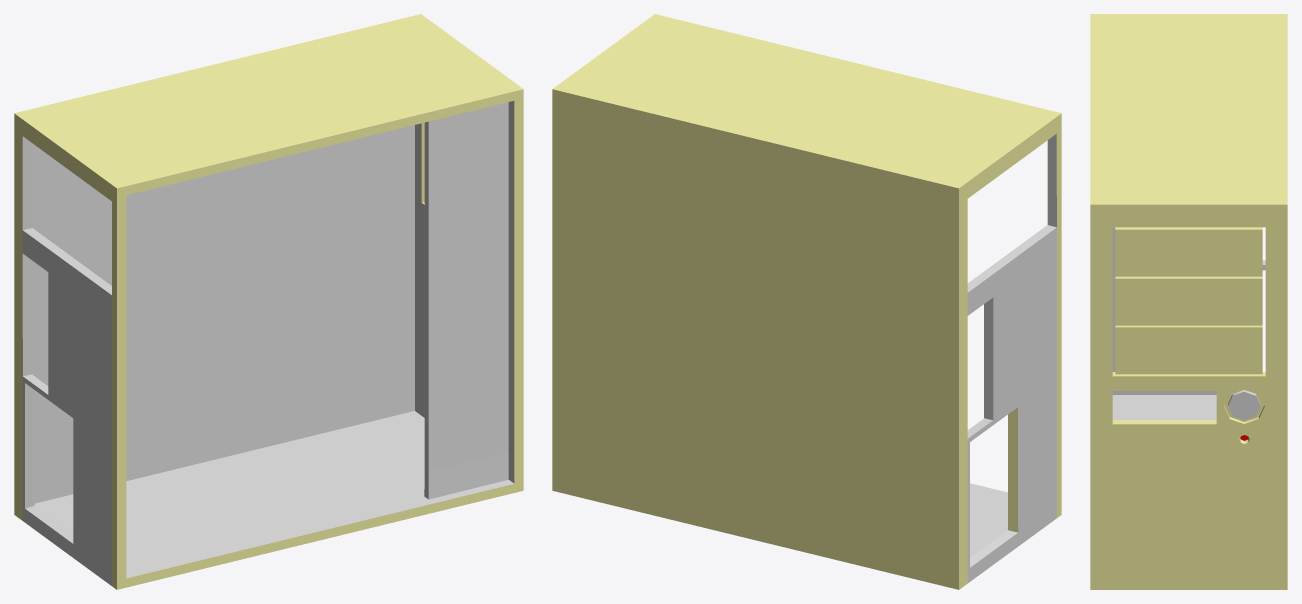
File: case02.fbx
The picture shows the model from 3 angles, left to right: view 1: azimuth 30°, elevation 25°; view 2: azimuth 150°, elevation 25°; view 3: azimuth 270°, elevation 25°; orthographic projection. The views are drawn at different scales.
Parts seen in each view (by area): view 1: Cube; view 2: Cube; view 3: Cube, Plane, Plane.001, Plane.002.
Boxes of the visible parts, left/top/right/bottom form: Cube: left=14, top=14, right=523, bottom=589; Cube: left=552, top=14, right=1061, bottom=589; Cube: left=1090, top=14, right=1287, bottom=589; Plane: left=1115, top=325, right=1262, bottom=374; Plane.001: left=1115, top=276, right=1262, bottom=325; Plane.002: left=1115, top=227, right=1262, bottom=276.
Bounding box in the file's own units: 341 × 322 × 149.
